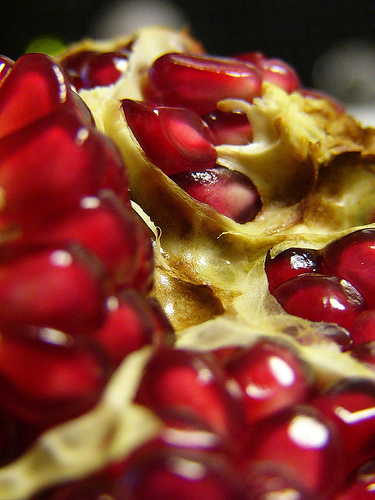pomogranate: (0, 26, 373, 497)
